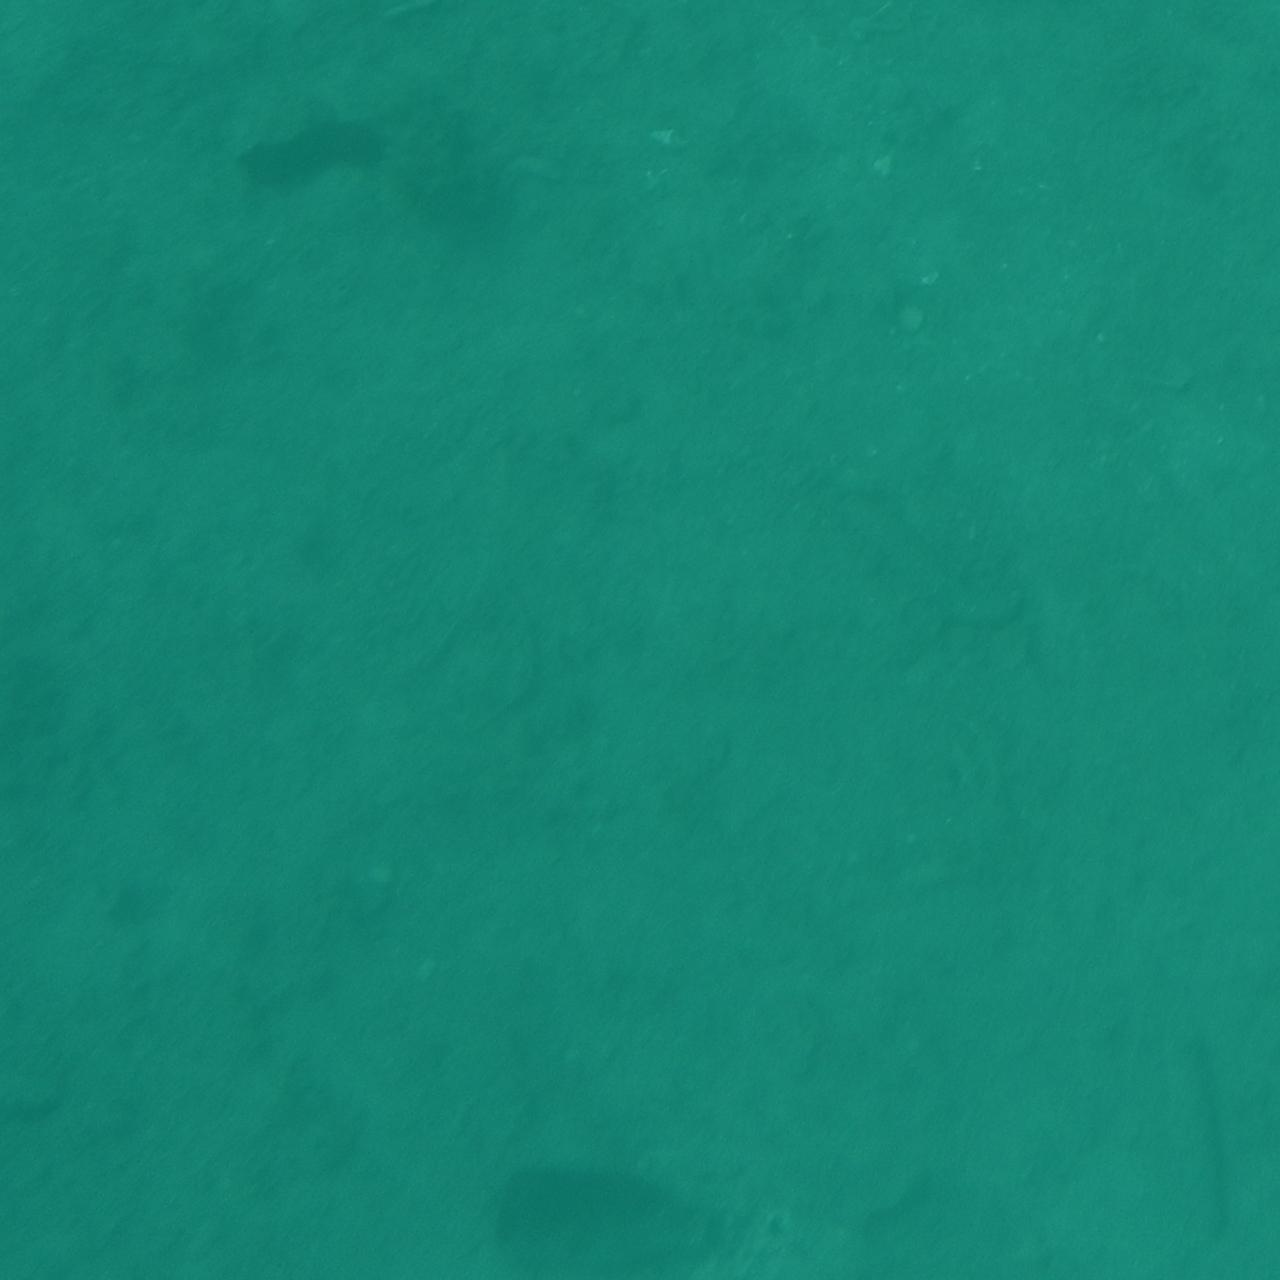Holothuria tubulosa: (466, 1149, 814, 1277)
